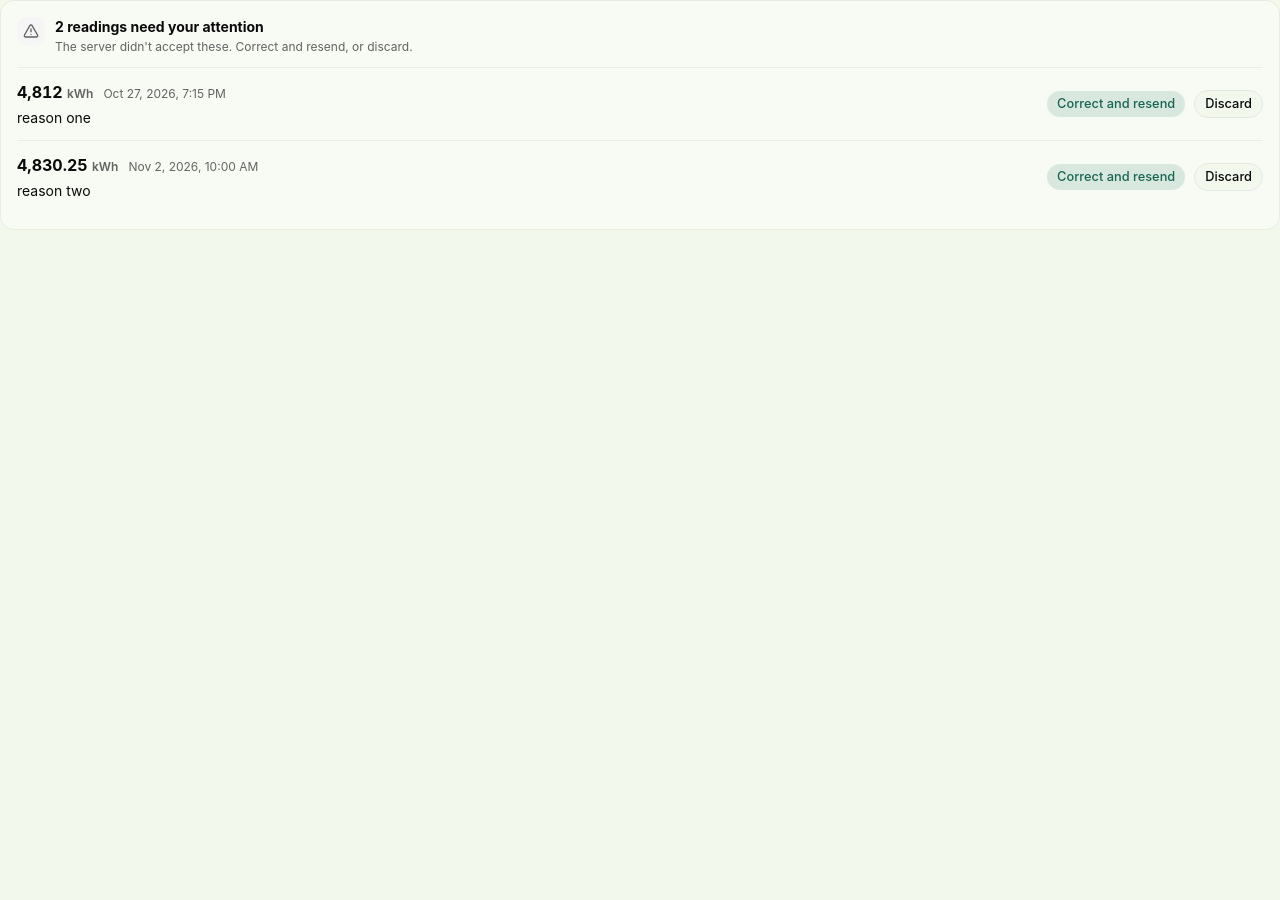
it: RejectedReadingsCard › correct and resend › resending one reading leaves the other row untouched
Click the button with aria-label "Correct and resend the reading". click: x=1116, y=104
box: [1046,90,1186,118]
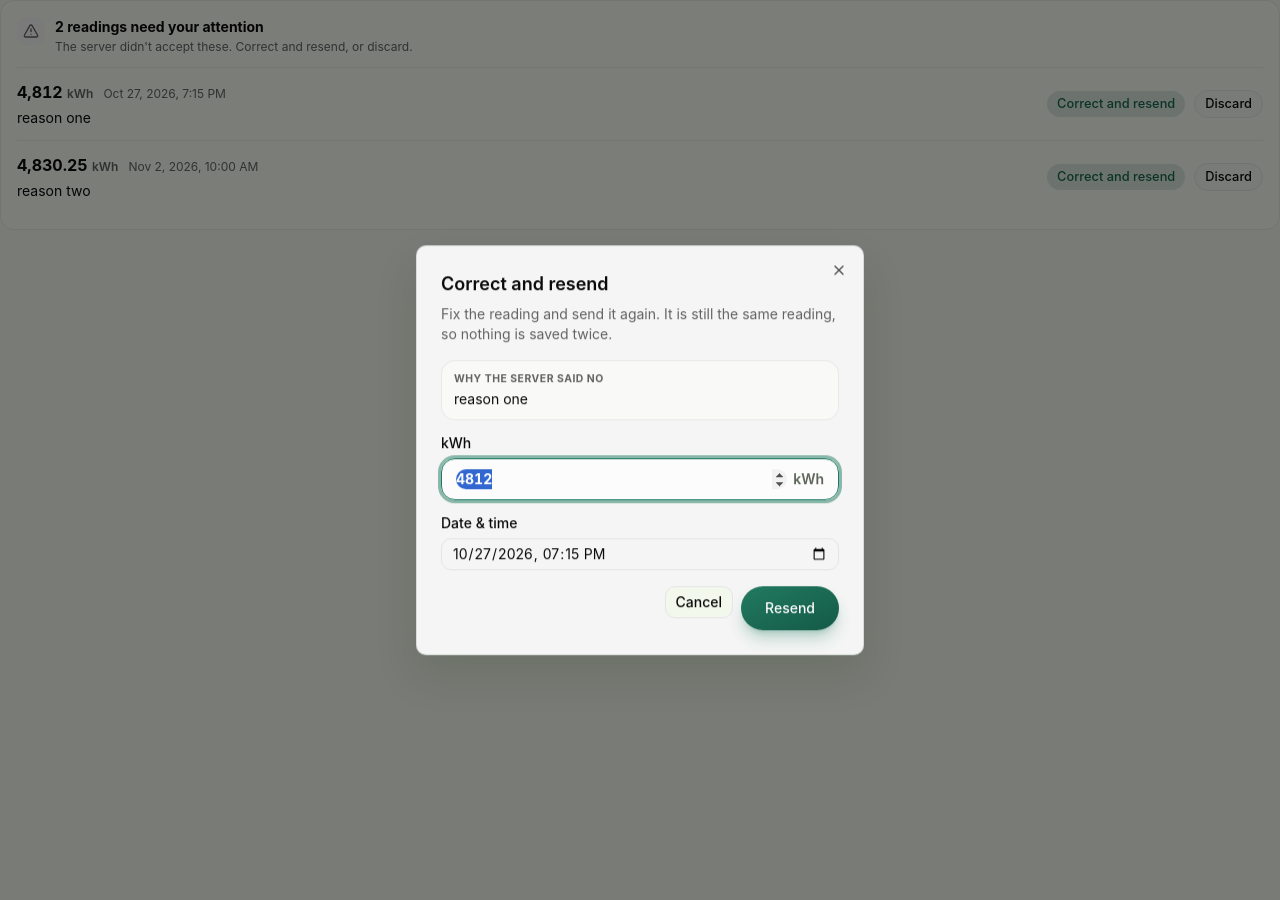
Click the button "Resend". click: x=790, y=608
box: [741,586,839,630]
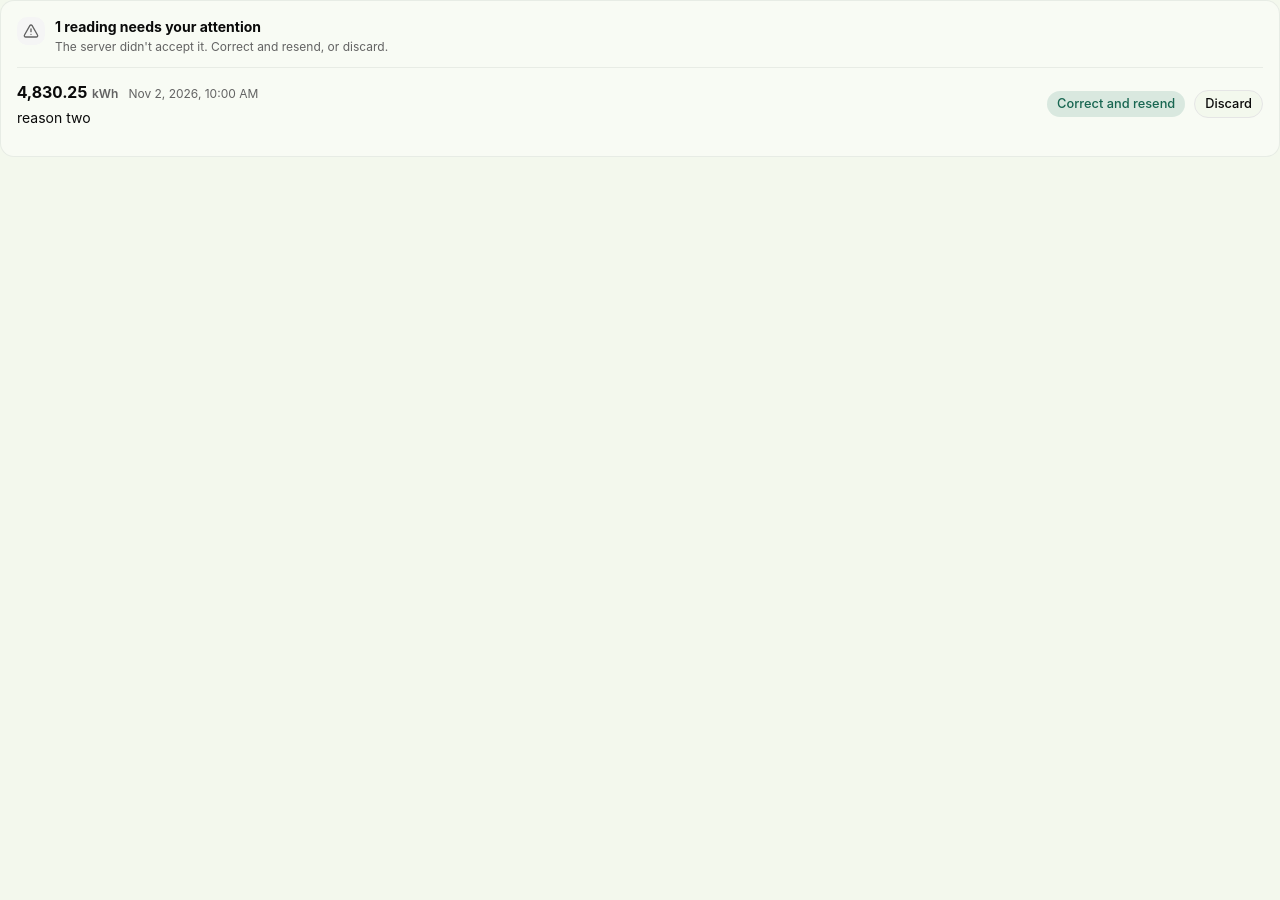
Expected: the text "reason two" is shown, [17,109,91,126]
Result: the text "reason one" is gone
